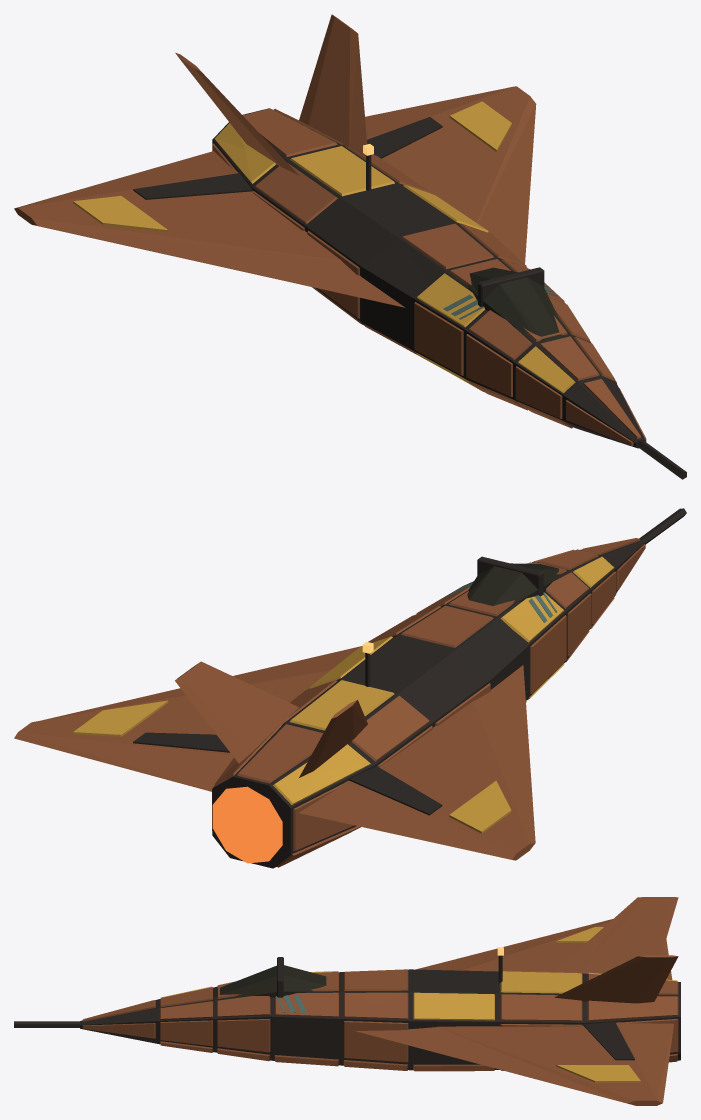
Rendered from pirate_fighter2.glb.
3 renders of one model, top to bottom at view 1: azimuth 30°, elevation 25°; view 2: azimuth 150°, elevation 25°; view 3: azimuth 270°, elevation 25°, orthographic. The views are drawn at different scales.
Parts seen in each view (by area): view 1: primary, structure, accent, glass; view 2: primary, structure, accent, engineGlow, glass; view 3: primary, structure, accent, glass.
Boxes of the visible parts, bbox=[...] form: primary: bbox=[14, 14, 646, 445]; structure: bbox=[133, 108, 686, 479]; accent: bbox=[73, 101, 575, 393]; glass: bbox=[467, 267, 562, 342]; primary: bbox=[14, 538, 645, 867]; structure: bbox=[133, 508, 686, 868]; accent: bbox=[73, 556, 614, 833]; engineGlow: bbox=[212, 786, 282, 863]; glass: bbox=[467, 563, 562, 605]; primary: bbox=[82, 897, 678, 1105]; structure: bbox=[14, 955, 680, 1070]; accent: bbox=[160, 927, 677, 1082]; glass: bbox=[213, 965, 326, 997].
Size of the model in its own units: 5.85 by 1.9 by 8.86.
